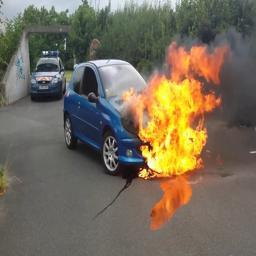fire: (123, 42, 228, 178)
